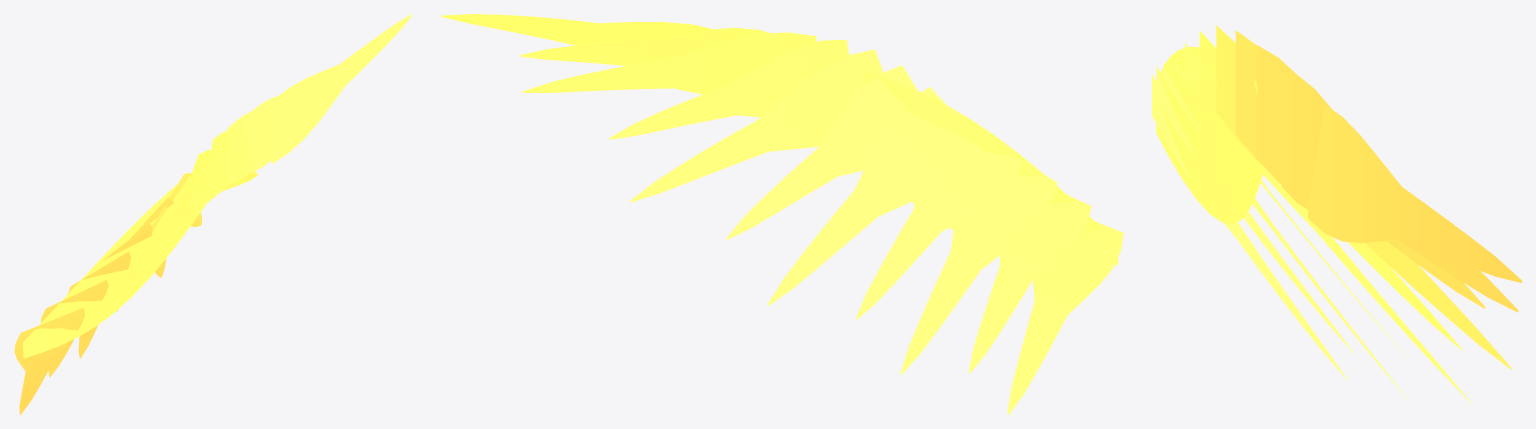
Rendered from fire_wing.glb.
The picture shows the model from 3 angles, left to right: view 1: azimuth 30°, elevation 25°; view 2: azimuth 150°, elevation 25°; view 3: azimuth 270°, elevation 25°; orthographic projection. The views are drawn at different scales.
Parts seen in each view (by area): view 1: wing; view 2: wing; view 3: wing.
Boxes of the visible parts, x1=… form: wing: x1=14, y1=14, x2=412, y2=414; wing: x1=441, y1=14, x2=1123, y2=414; wing: x1=1152, y1=25, x2=1521, y2=403.
Bounding box in the file's own units: 3.9 × 2.03 × 1.28.
